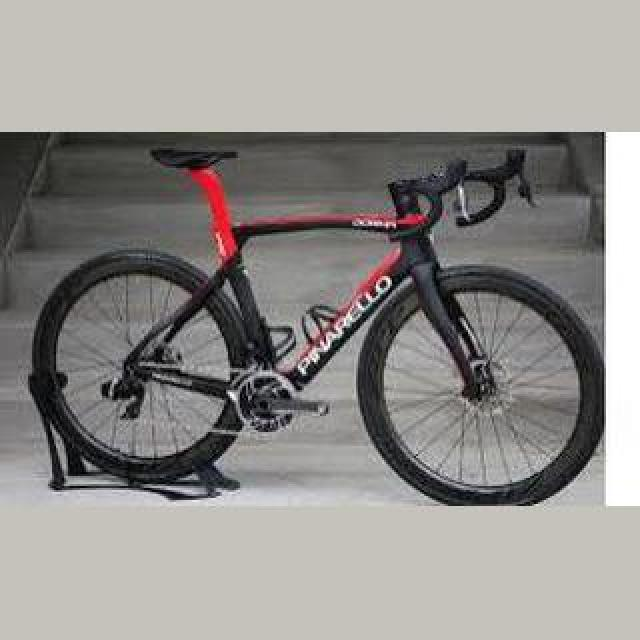Person: (26, 148, 610, 506)
